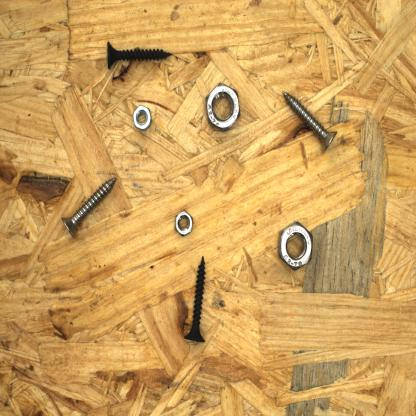screw: (278, 86, 340, 157), (57, 174, 118, 243), (181, 252, 210, 346), (103, 38, 176, 72)
